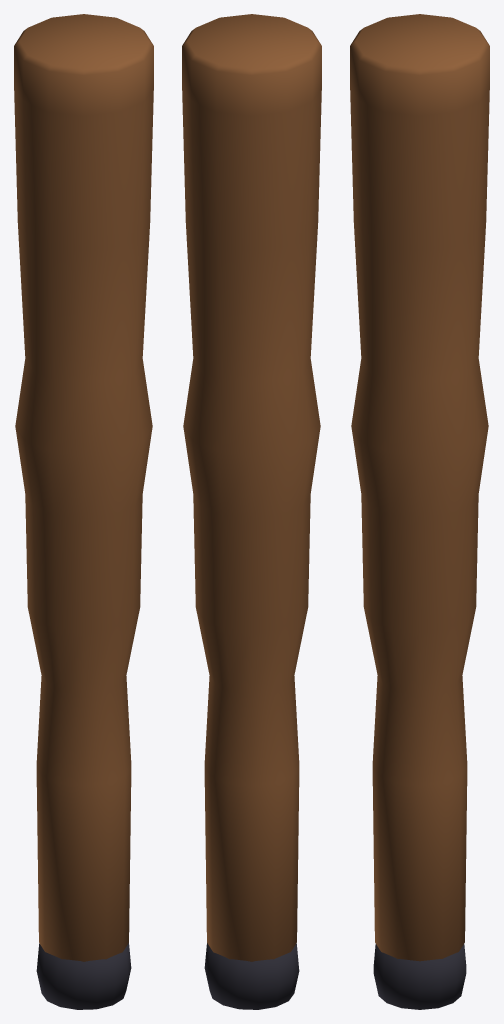
File: prop_chair_leg.glb
3 renders of one model, left to right at view 1: azimuth 30°, elevation 25°; view 2: azimuth 150°, elevation 25°; view 3: azimuth 270°, elevation 25°, orthographic.
Visible parts, largest first — view 1: prop_chair_leg; view 2: prop_chair_leg; view 3: prop_chair_leg.
Boxes of the visible parts, x1,y1,x2,y2 form: prop_chair_leg: [14, 14, 153, 1009]; prop_chair_leg: [182, 14, 321, 1009]; prop_chair_leg: [350, 14, 489, 1009].
Size of the model in its own units: 0.056 by 0.42 by 0.056.
